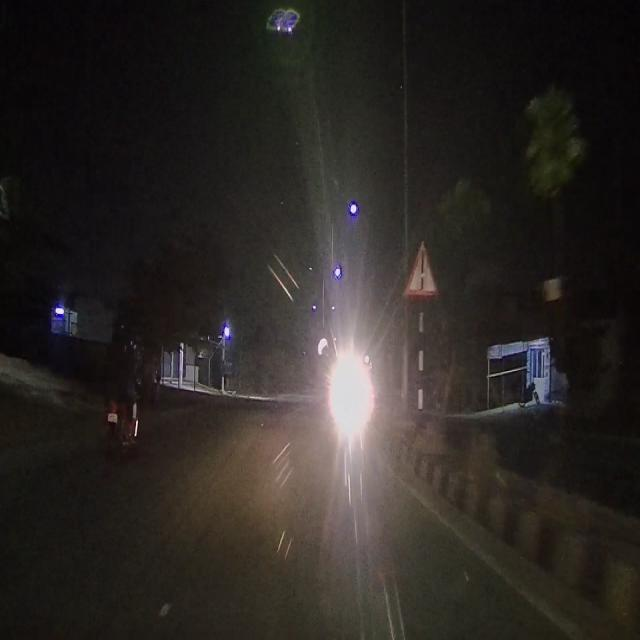gap-in-median: (408, 236, 441, 300)
